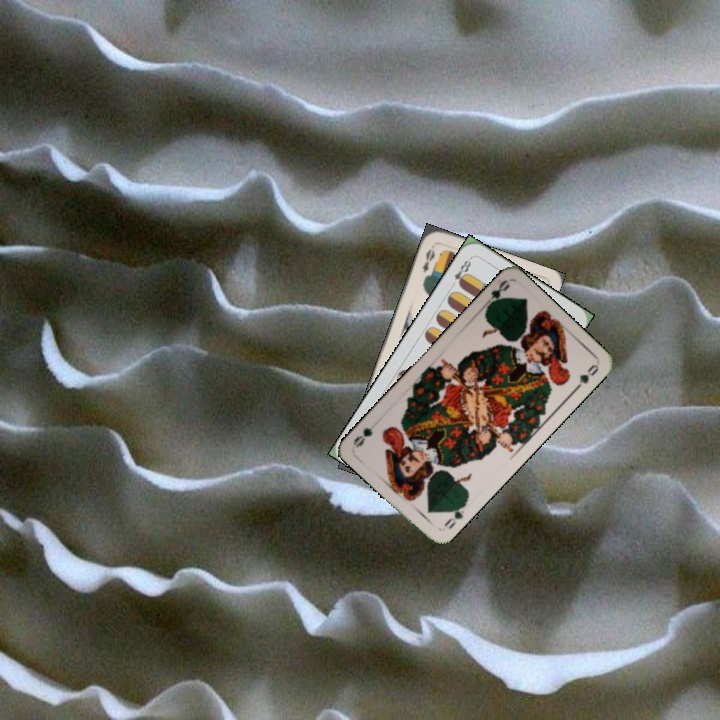E8: (450, 254, 474, 289)
EO: (419, 245, 438, 275)
GO: (478, 277, 513, 313), (440, 499, 469, 532)
